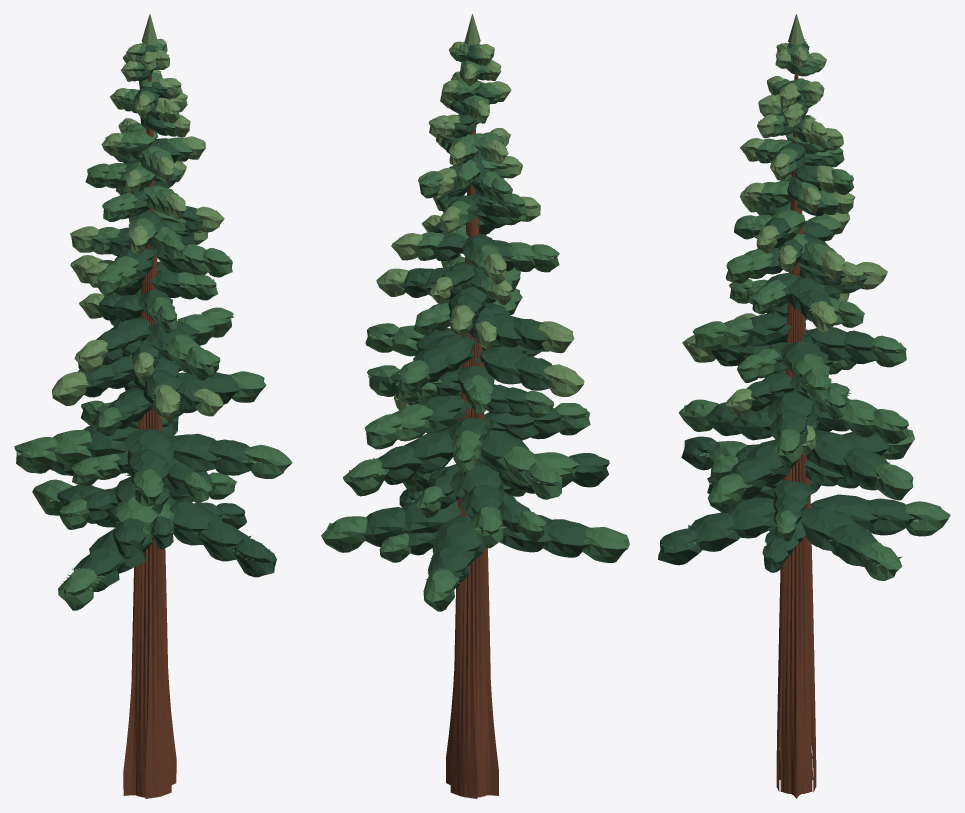
Rendered from mountain_pine.meshopt.glb.
3 renders of one model, left to right at view 1: azimuth 30°, elevation 25°; view 2: azimuth 150°, elevation 25°; view 3: azimuth 270°, elevation 25°, orthographic.
Visible parts, largest first — view 1: mountain_pine; view 2: mountain_pine; view 3: mountain_pine.
Part boxes in pixels (<box>): mountain_pine: <box>14,14,292,798</box>; mountain_pine: <box>321,14,629,798</box>; mountain_pine: <box>658,14,950,798</box>.
Size of the model in its own units: 14.21 by 45.2 by 15.53.
